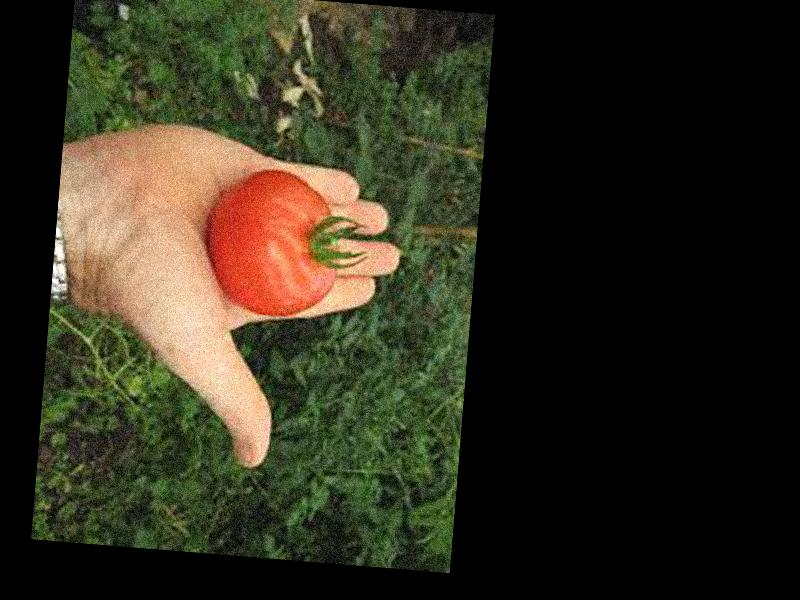Tomato: (203, 163, 342, 322)
